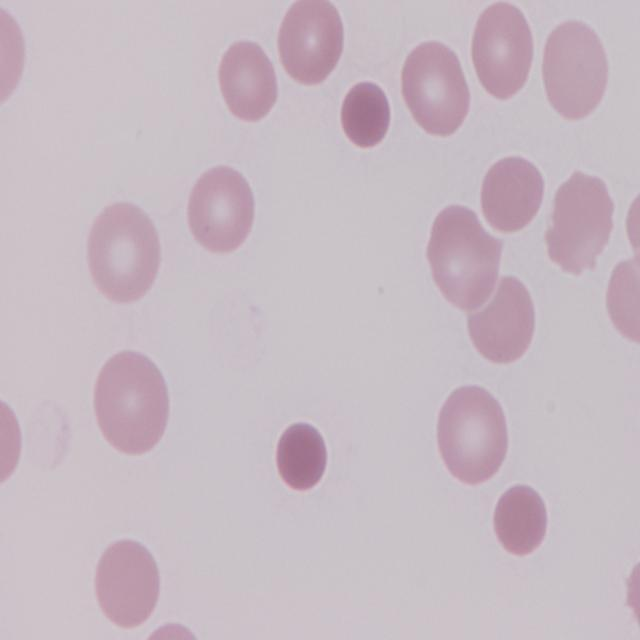RBC: (84, 198, 165, 308), (92, 348, 173, 456), (436, 376, 514, 488), (536, 15, 614, 125), (426, 204, 504, 310), (543, 170, 618, 274), (398, 35, 470, 137), (466, 270, 538, 370), (187, 158, 260, 256), (470, 0, 540, 101), (92, 532, 164, 630), (274, 0, 346, 89), (214, 36, 282, 124), (480, 148, 548, 235), (604, 249, 640, 353), (0, 0, 30, 115), (0, 384, 22, 494)
Spherocyte: (492, 482, 552, 558), (272, 422, 330, 496), (338, 77, 394, 149)
